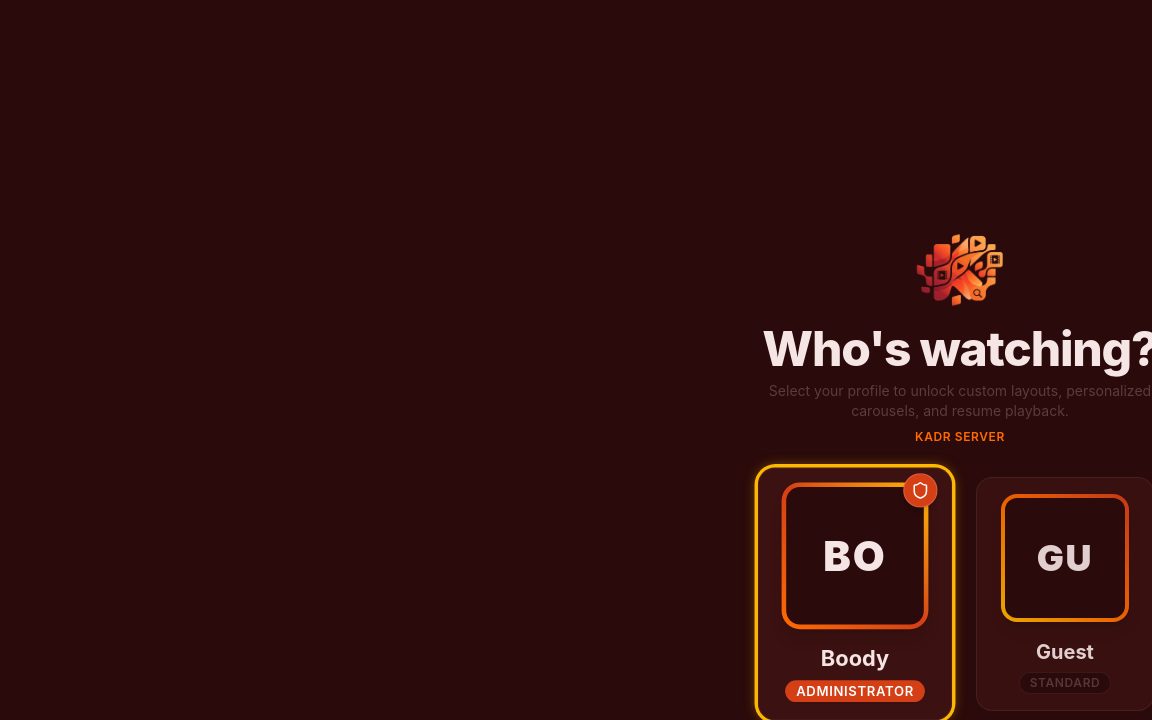
Test case: ProfileSelectScreen › calls onLogin with userId and PIN on submission and closes modal on success
This screenshot has width=1152, height=720.
(page scrolled)
Click the text "Boody" at [855, 658], box x1=821 y1=645 x2=889 y2=672
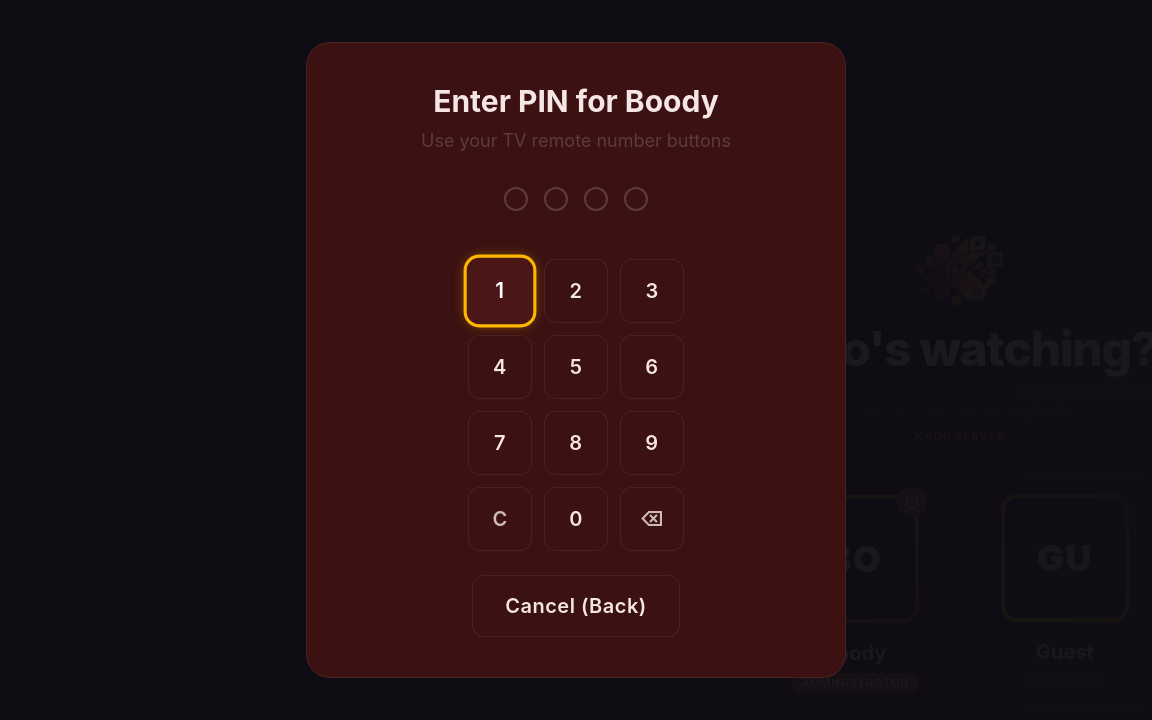
// Type PIN 1234
Press 1
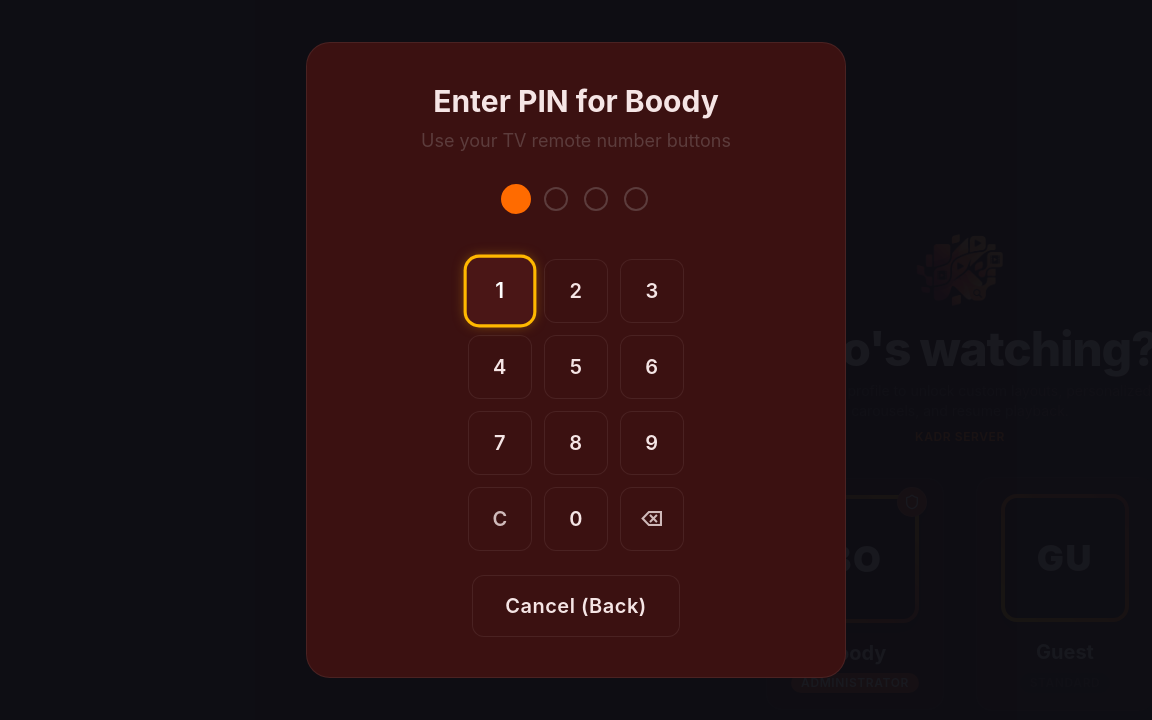
Press 2
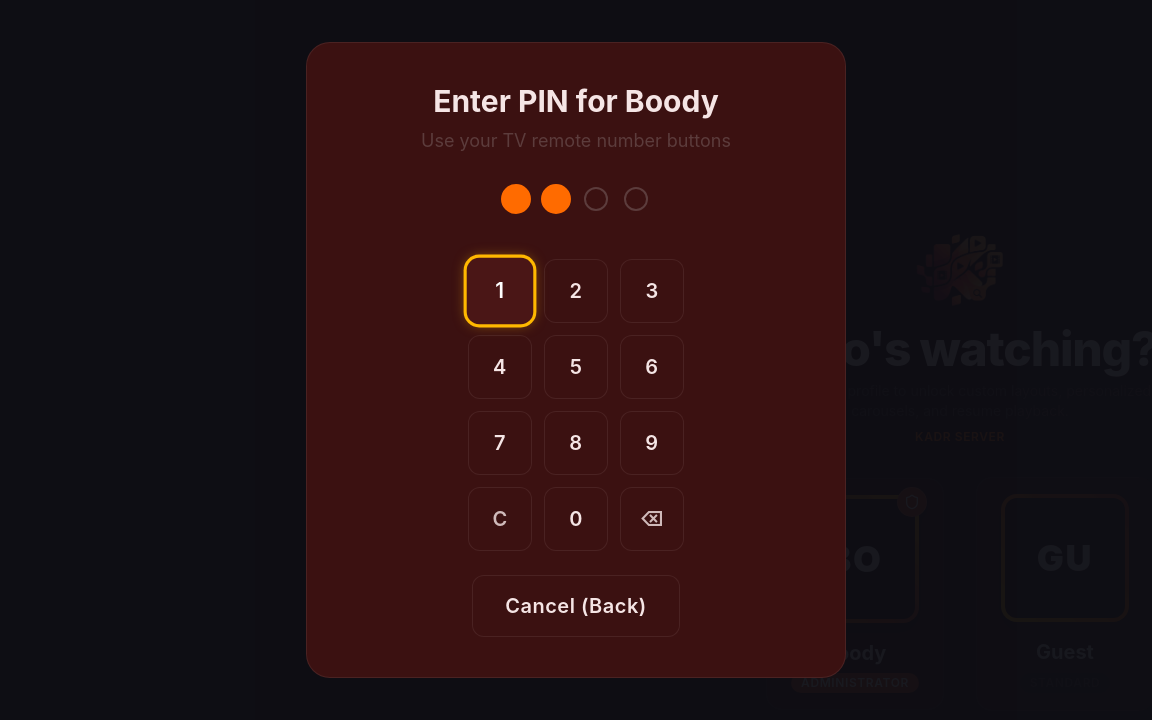
Press 3
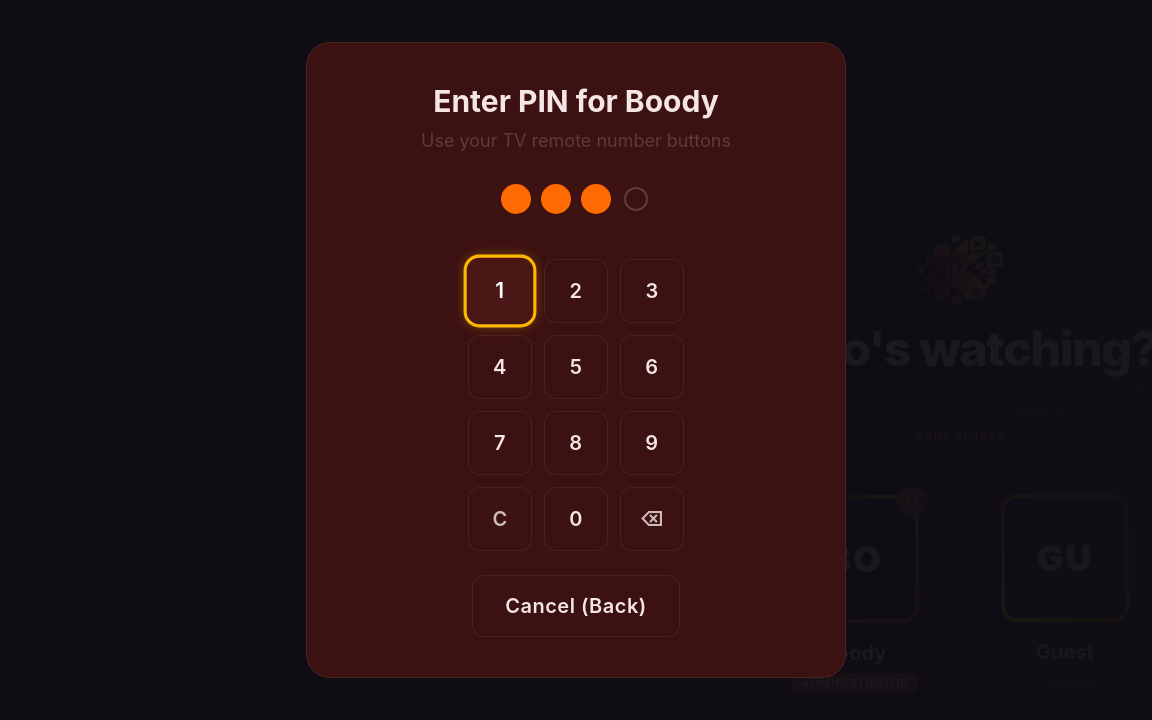
Press 4
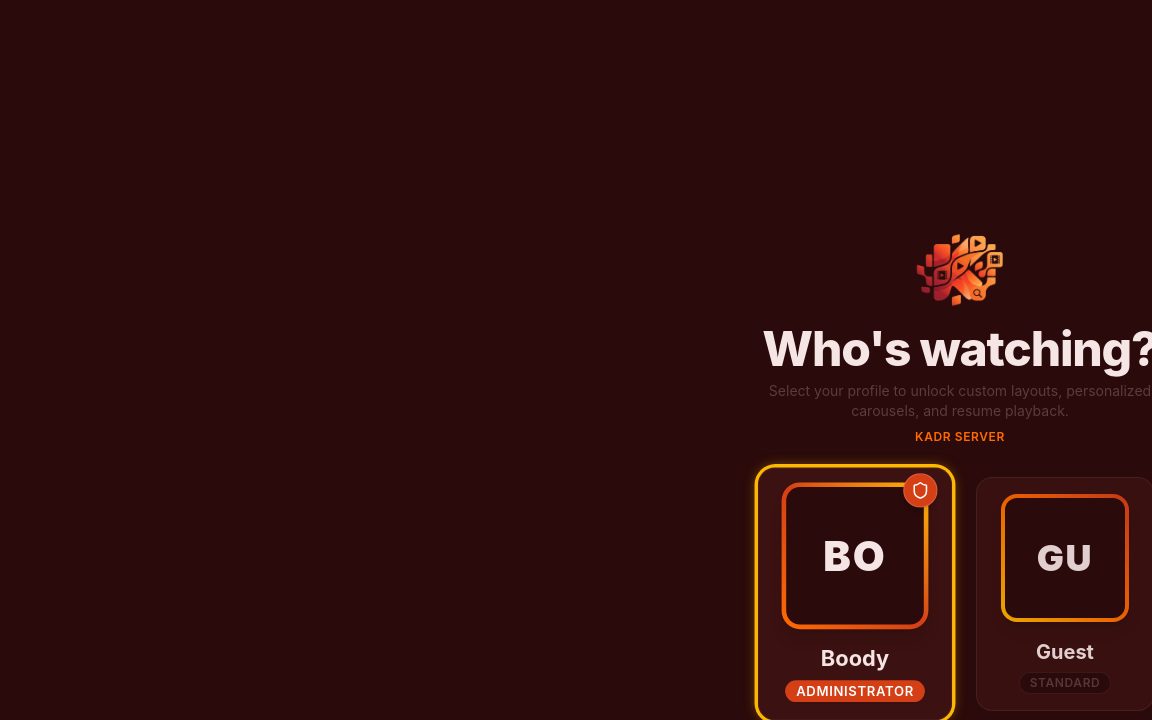
Check: the heading "Enter PIN for Boody" is gone
